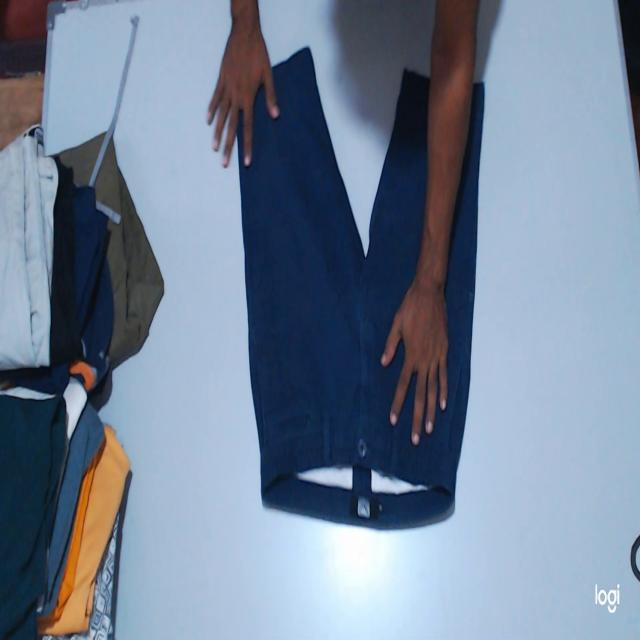new-garment: (239, 48, 484, 528)
